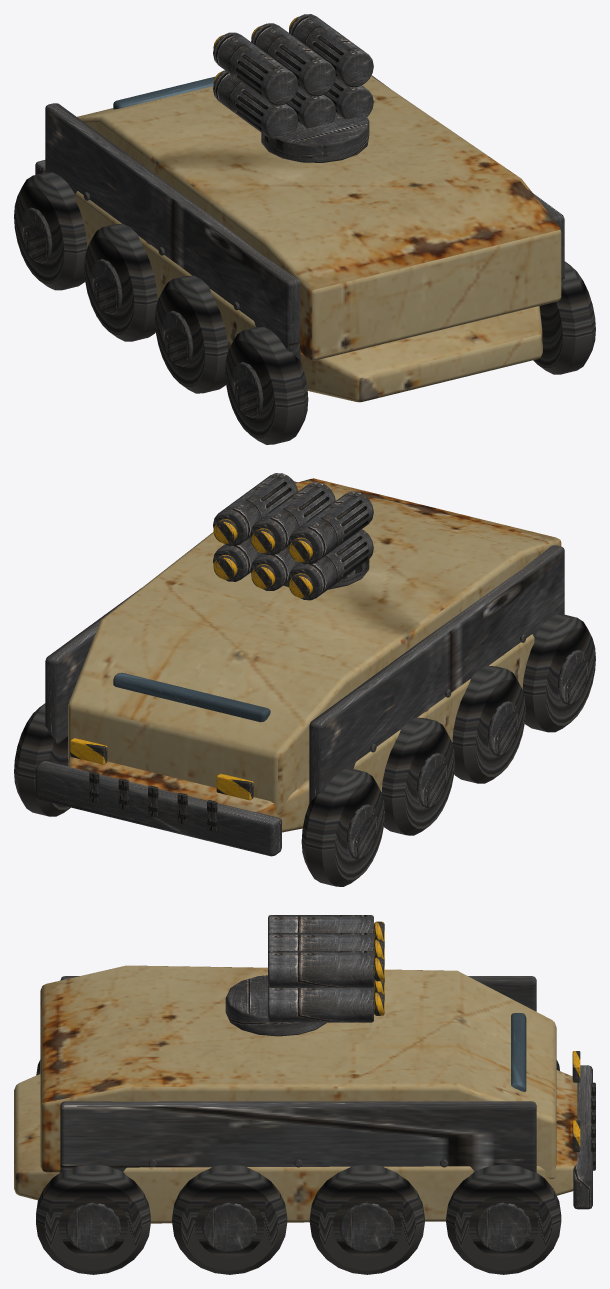
File: pummeler.gltf
The picture shows the model from 3 angles, top to bottom: view 1: azimuth 30°, elevation 25°; view 2: azimuth 150°, elevation 25°; view 3: azimuth 270°, elevation 25°; orthographic projection. The views are drawn at different scales.
Visible parts, largest first — view 1: Eight wheel armored hull, Side armor, Armored chassis.003, CC0Wheel.012, CC0Wheel.018, CC0Wheel.016, CC0Wheel.014, CC0Wheel.013, Turret, Rocket pod.001, Rocket pod.003, Rocket pod.005 (+8 smaller); view 2: Eight wheel armored hull, Side armor, Ram plate.003, Armored chassis.003, CC0Wheel.018, CC0Wheel.012, CC0Wheel.014, CC0Wheel.016, Side armor.001, CC0Wheel.019, Rocket pod.001, Driver slit (+11 smaller); view 3: Eight wheel armored hull, Side armor.001, Armored chassis.003, CC0Wheel.019, CC0Wheel.013, CC0Wheel.015, CC0Wheel.017, Rocket pod.005, Rocket pod.004, Turret, Ram plate.003, Hub.017 (+7 smaller).
Part boxes in pixels (<box>): Eight wheel armored hull: <box>77,76,561,360</box>; Side armor: <box>45,103,300,360</box>; Armored chassis.003: <box>75,191,542,402</box>; CC0Wheel.012: <box>225,327,308,444</box>; CC0Wheel.018: <box>14,172,87,290</box>; CC0Wheel.016: <box>84,223,157,341</box>; CC0Wheel.014: <box>155,275,228,393</box>; CC0Wheel.013: <box>533,261,595,374</box>; Turret: <box>261,113,369,162</box>; Rocket pod.001: <box>213,32,298,105</box>; Rocket pod.003: <box>251,23,335,96</box>; Rocket pod.005: <box>289,14,373,86</box>; Eight wheel armored hull: <box>68,478,561,814</box>; Side armor: <box>309,545,564,802</box>; Ram plate.003: <box>35,761,281,856</box>; Armored chassis.003: <box>68,634,534,832</box>; CC0Wheel.018: <box>301,769,384,886</box>; CC0Wheel.012: <box>522,614,595,732</box>; CC0Wheel.014: <box>452,665,525,783</box>; CC0Wheel.016: <box>381,717,454,835</box>; Side armor.001: <box>45,481,297,744</box>; CC0Wheel.019: <box>14,703,70,816</box>; Rocket pod.001: <box>288,491,373,564</box>; Driver slit: <box>113,672,270,722</box>; Eight wheel armored hull: <box>40,965,556,1178</box>; Side armor.001: <box>60,1101,536,1172</box>; Armored chassis.003: <box>14,1070,577,1223</box>; CC0Wheel.019: <box>446,1164,561,1274</box>; CC0Wheel.013: <box>36,1164,150,1274</box>; CC0Wheel.015: <box>172,1164,287,1274</box>; CC0Wheel.017: <box>309,1164,424,1274</box>; Rocket pod.005: <box>268,951,373,987</box>; Rocket pod.004: <box>268,987,373,1022</box>; Turret: <box>225,975,326,1036</box>; Ram plate.003: <box>573,1065,592,1209</box>; Hub.017: <box>339,1202,394,1252</box>.
Size of the model in its own units: 2.8 by 2.23 by 4.4.
5 materials, 5 textured.
